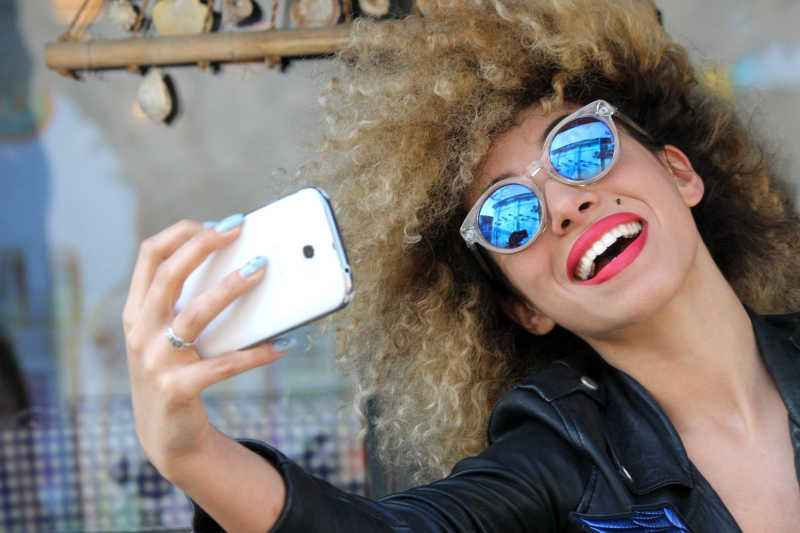taking photos: (111, 180, 361, 481)
